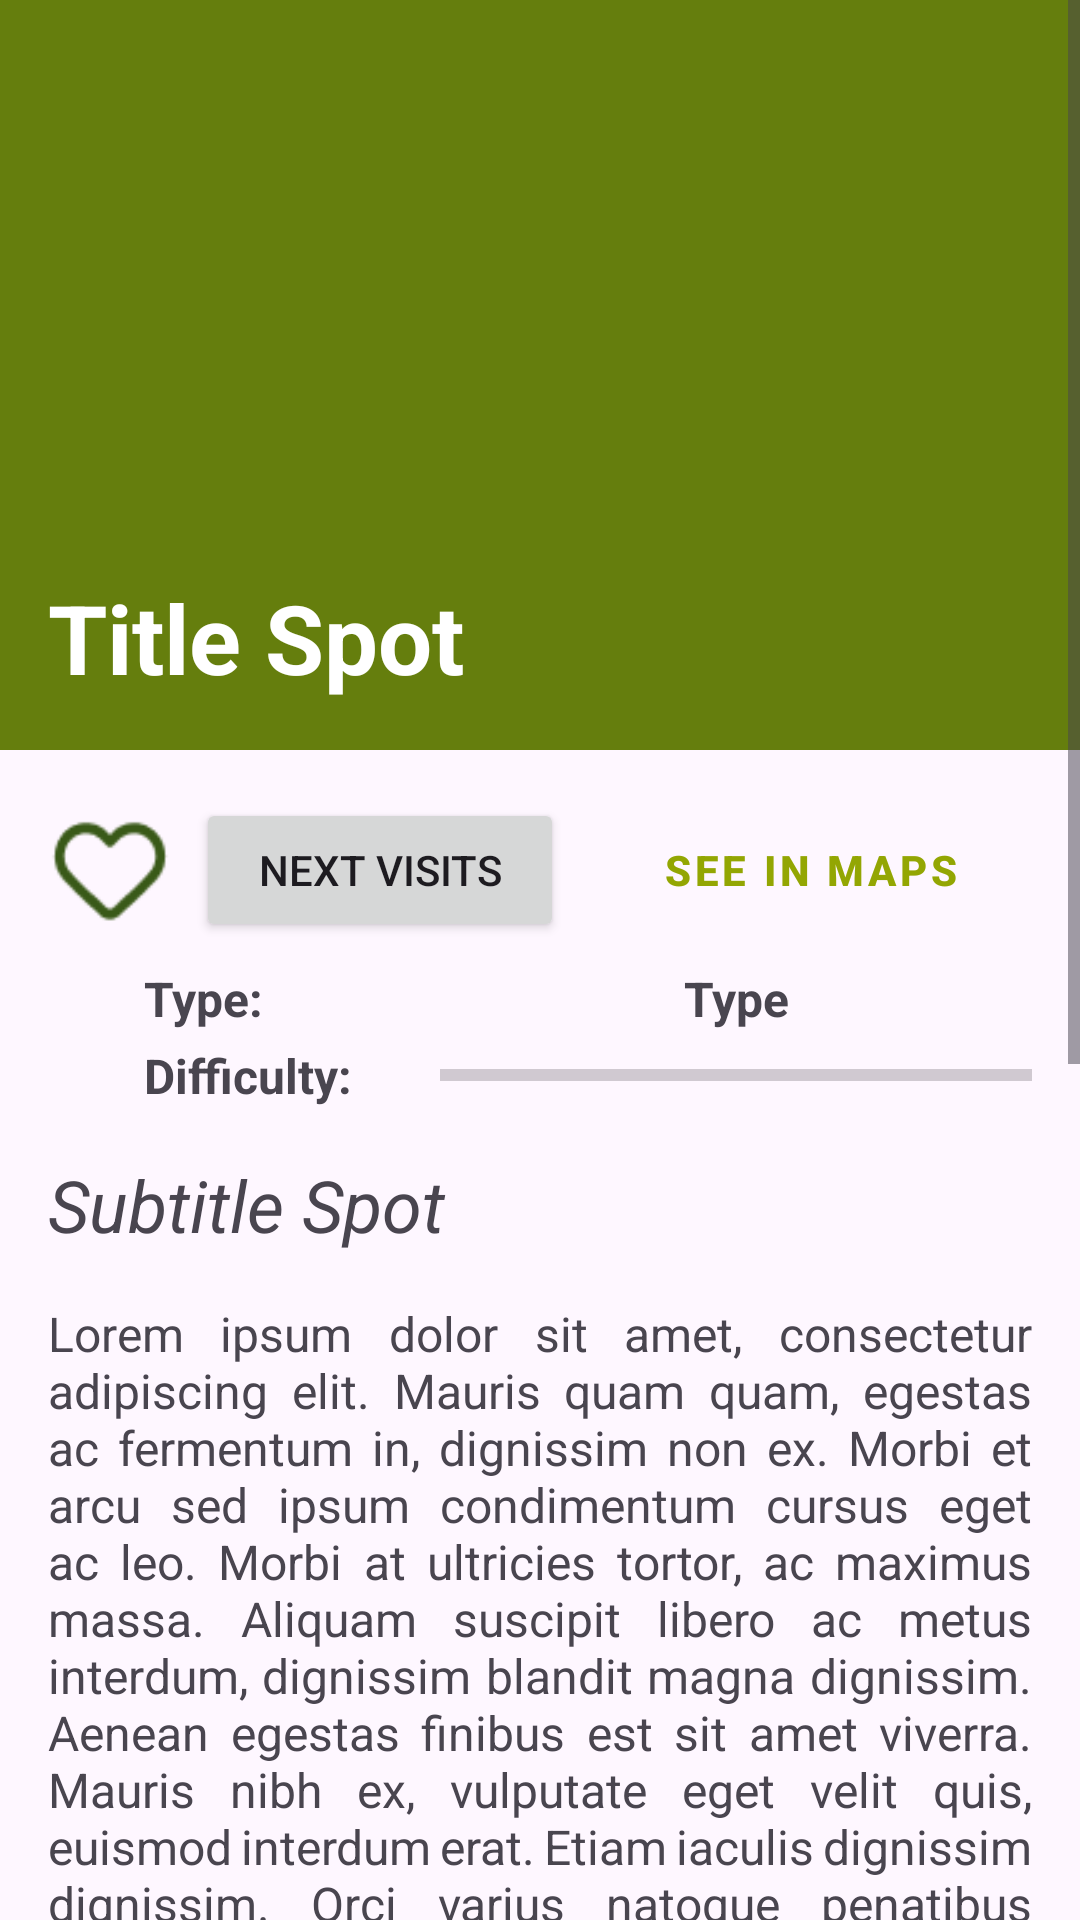

Icon bounding boxes for this 1080 × 1920 phone screenshot, format (x1,y1,x2,y2):
fav: (54,822,166,921)
